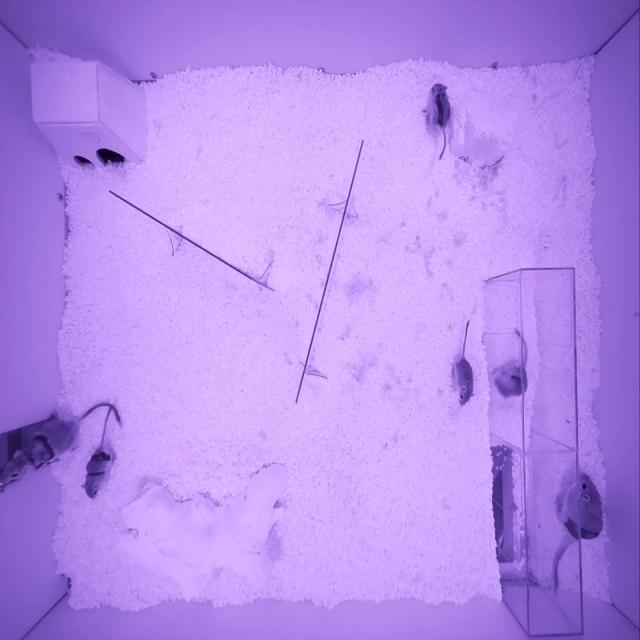adult_back: (556, 472, 603, 539)
adult_front: (0, 420, 79, 492)
pup_fluffy: (455, 358, 476, 406)
pup_h_stripe: (81, 446, 112, 499)
pup_spotted: (494, 366, 528, 398)
pup_v_stripe: (425, 84, 451, 132)
